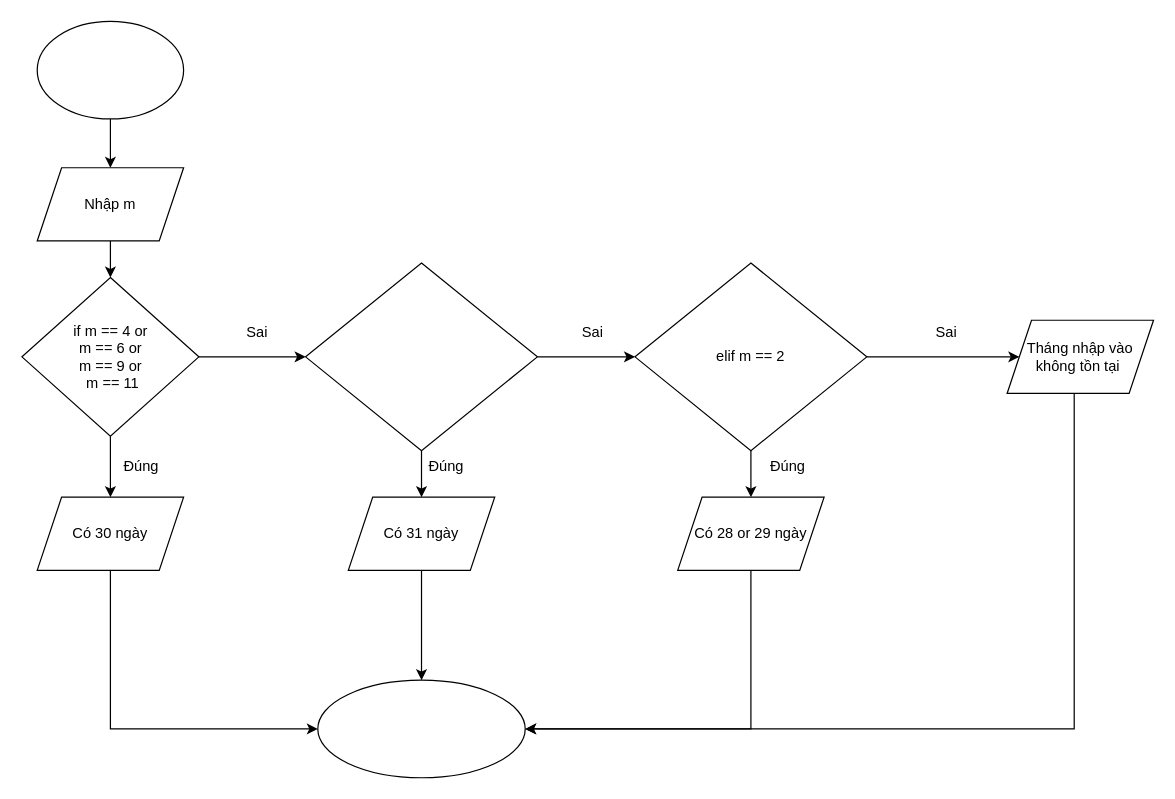
The diagram is 1175 pixels wide and 799 high, and some of its shapes have lost their labels. Here are the shapes that lost their labels. From the top down, the box of each, then its label:
(36, 20, 184, 119): Bắt đầu
(304, 262, 537, 451): elif m == 1 or m == 3 or m == 5 or m == 7 or m == 8 or m == 10 or m == 12
(317, 679, 525, 778): Kết thúc
